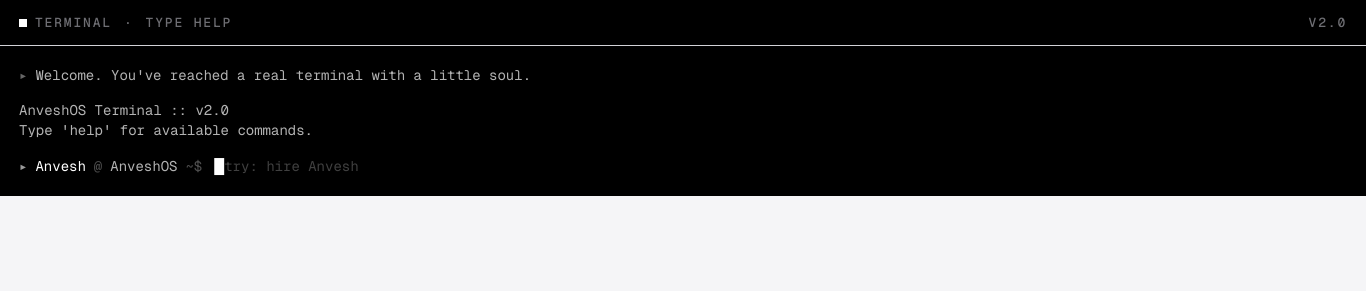
Test: TerminalApp command loop (must keep working) › reports unknown commands without crashing the loop
This screenshot has width=1366, height=291.
In the field named "Terminal command input": (286, 166) left=214, top=159, right=359, bottom=173, type "definitely-not-a-command"
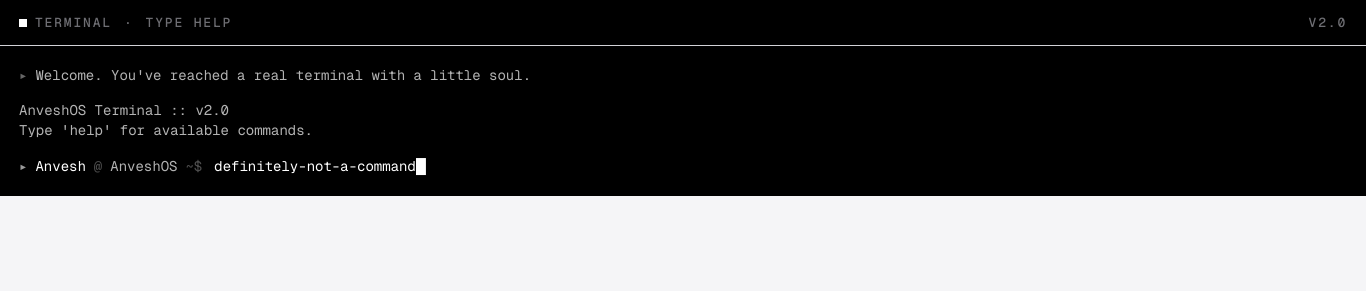
Press Enter in the field named "Terminal command input", box left=214, top=159, right=426, bottom=173
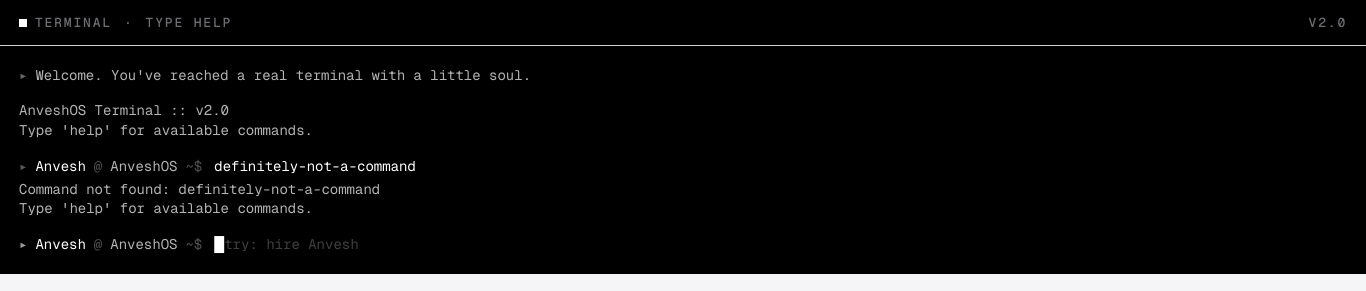
expect the text "Command not found: definitely-not-a-command" is shown: met, box left=19, top=180, right=380, bottom=198
